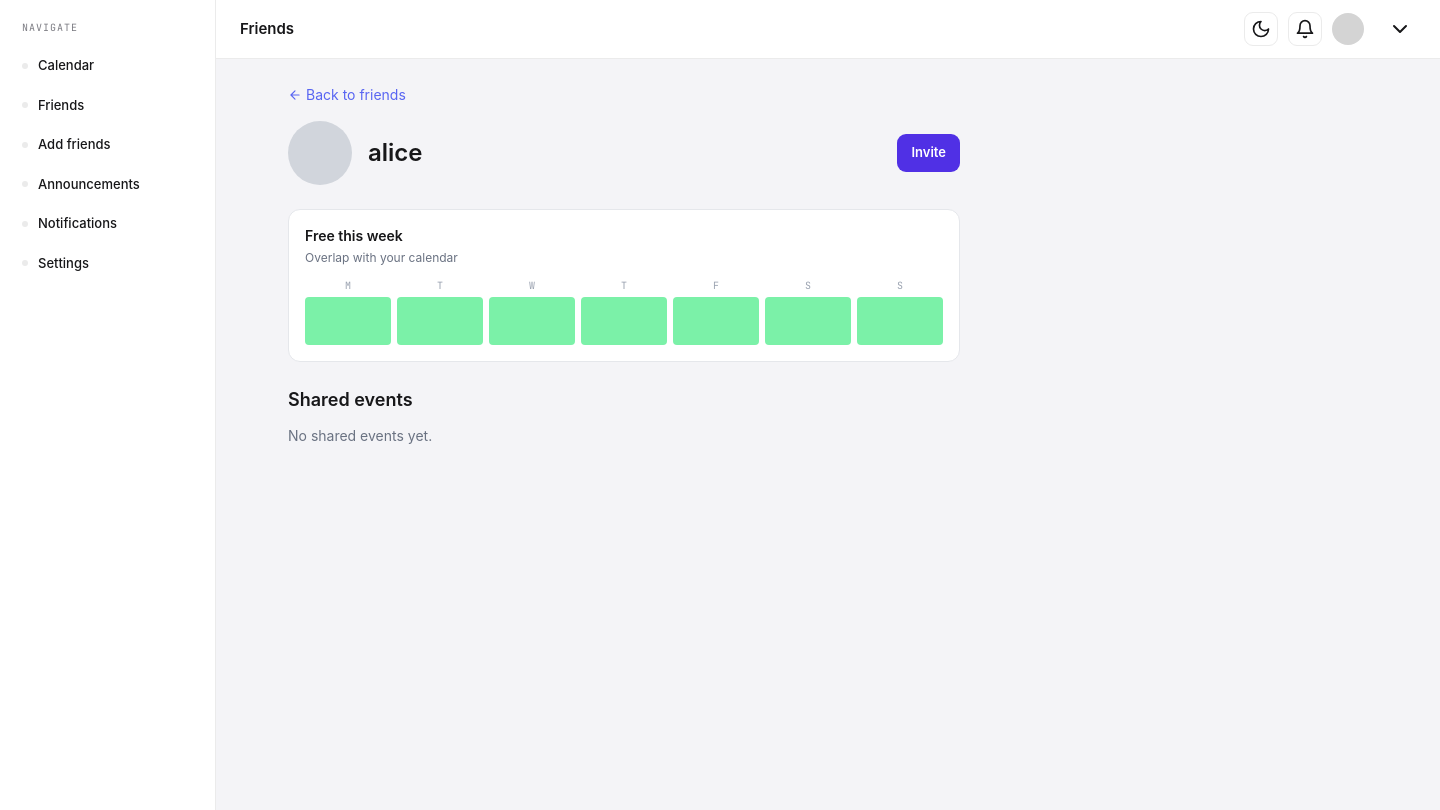
Test case: friend detail page › inviting them to something › invites them through the existing participants endpoint
Click the button "Invite" at (929, 153), box [898,134,960,172]
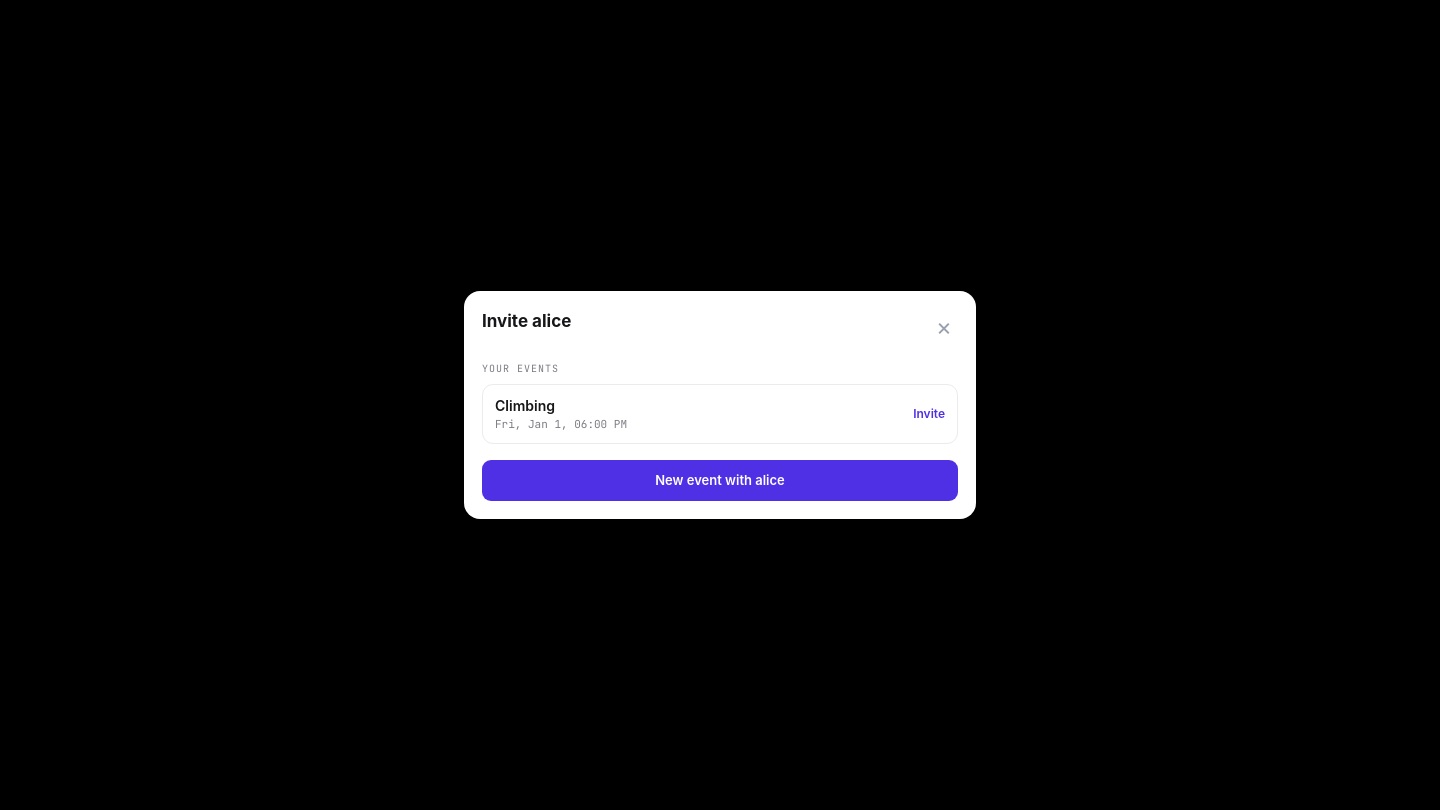
Expected: the dialog is shown, [464,291,976,519]
Expected: the text "Climbing" is shown
Click the text "Climbing" at (525, 406), box [495,397,555,414]
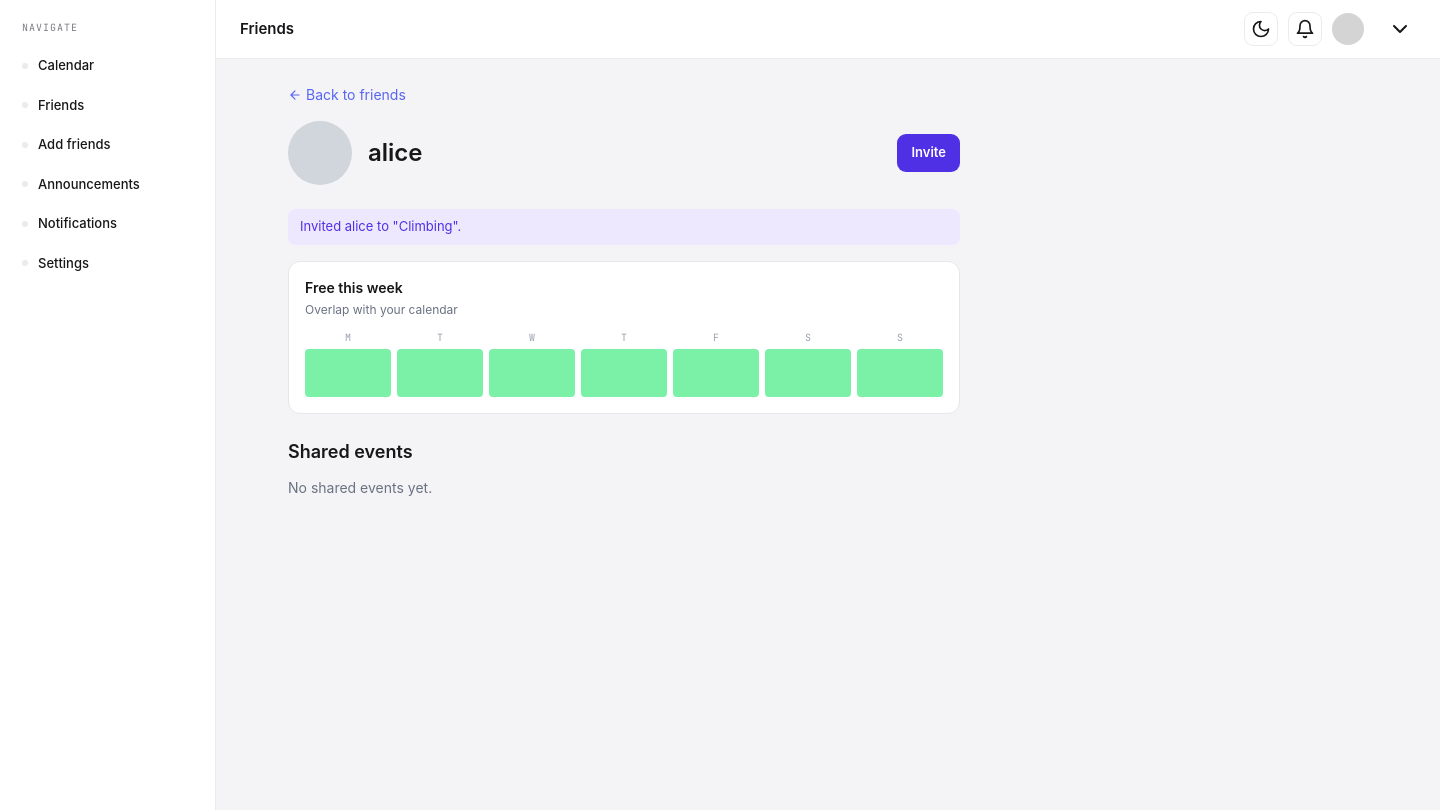
Expected: the message shows "Climbing", [300,218,461,234]
